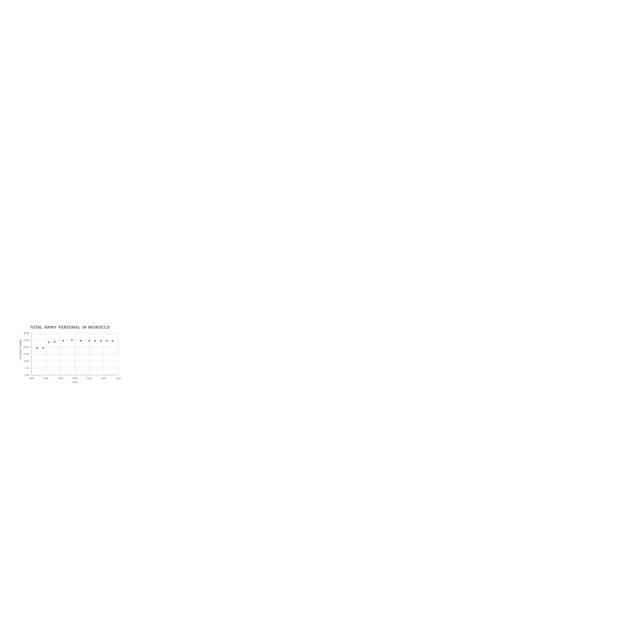Graph: (18, 324, 122, 385)
